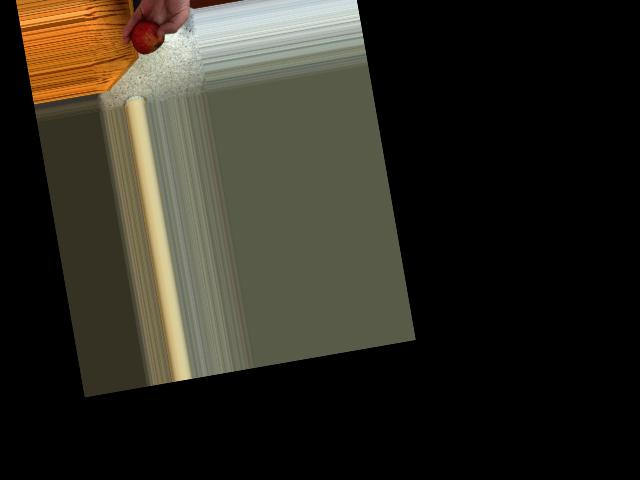apple: (127, 16, 166, 58)
